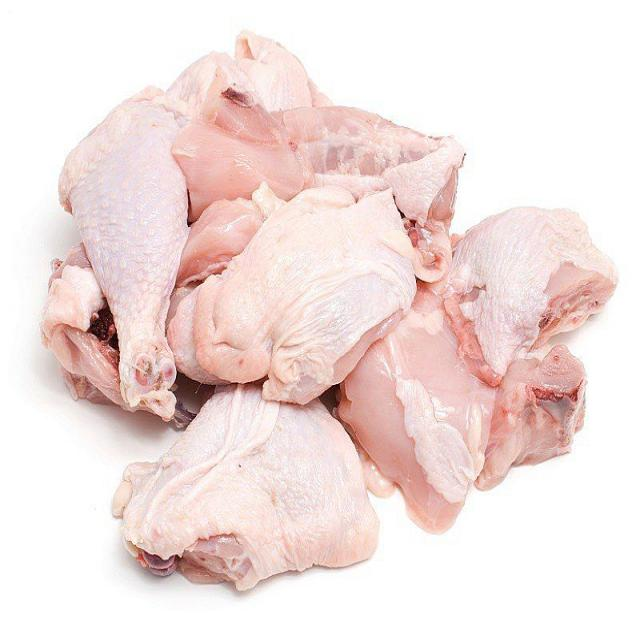chicken: (26, 0, 589, 567), (154, 190, 418, 407), (167, 30, 459, 223), (118, 396, 378, 582), (55, 85, 190, 408), (441, 208, 616, 385)
